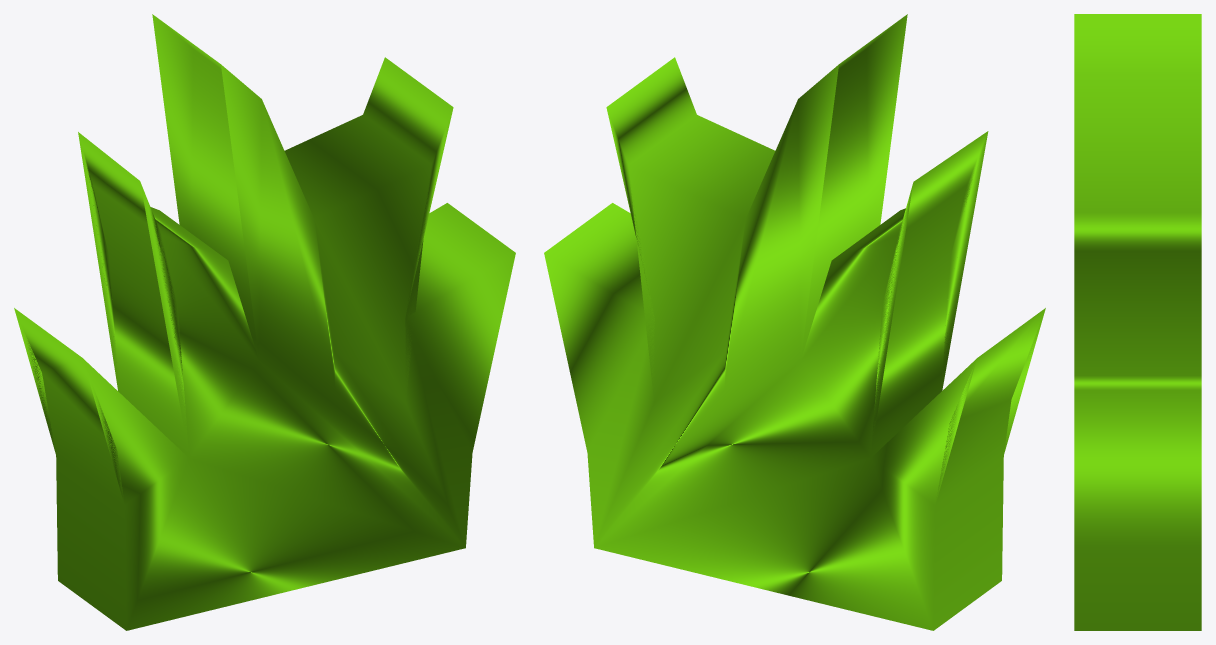
The model's file is gc_2_far.glb.
3 views of the same model, side by side, from view 1: azimuth 30°, elevation 25°; view 2: azimuth 150°, elevation 25°; view 3: azimuth 270°, elevation 25° (orthographic). The views are drawn at different scales.
Parts seen in each view (by area): view 1: Curve.001_Material.001_0; view 2: Curve.001_Material.001_0; view 3: Curve.001_Material.001_0.
Boxes of the visible parts, bbox=[...] form: Curve.001_Material.001_0: bbox=[14, 14, 515, 630]; Curve.001_Material.001_0: bbox=[544, 14, 1045, 630]; Curve.001_Material.001_0: bbox=[1074, 14, 1201, 630].
Size of the model in its own units: 0.6707 by 0.8041 by 0.1838.
